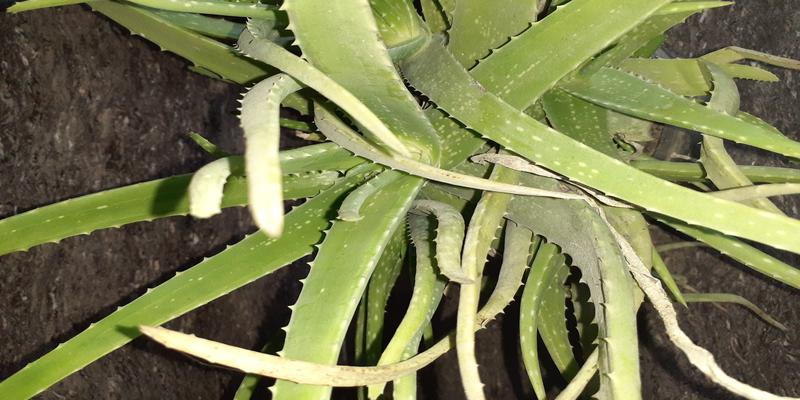Aloevera: (145, 35, 748, 347)
